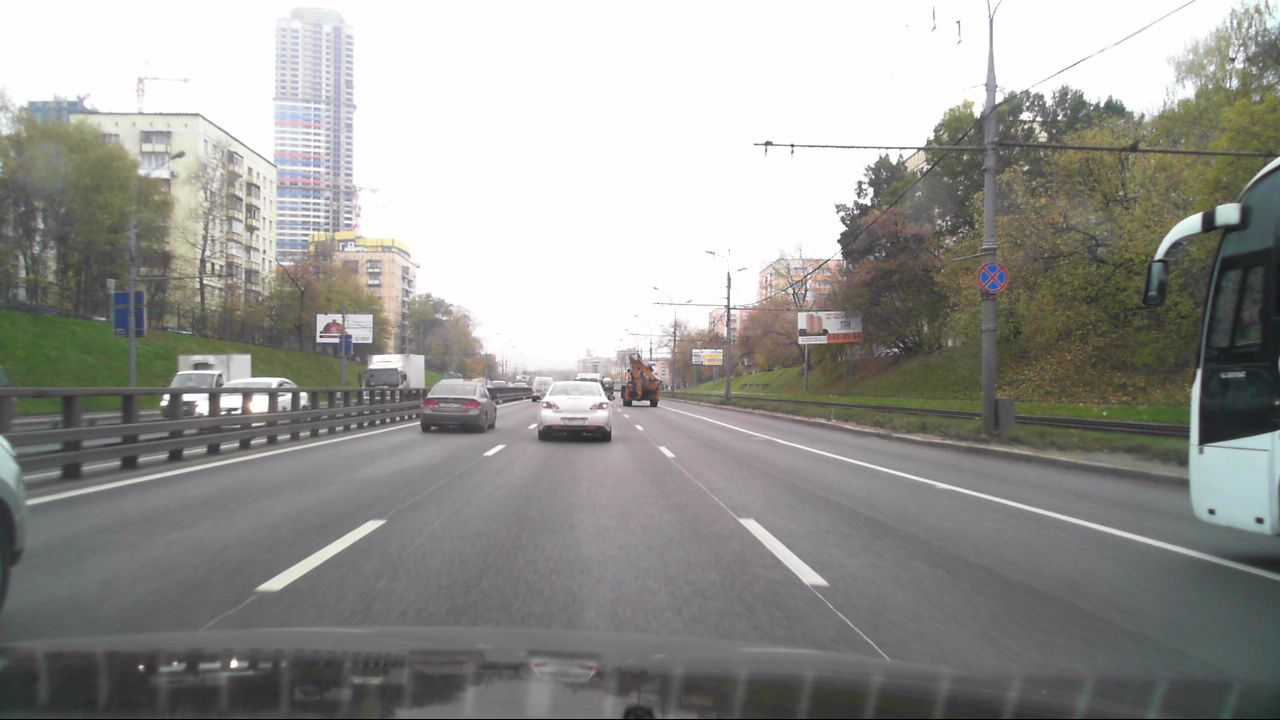No Parking: (977, 261, 1008, 293)
